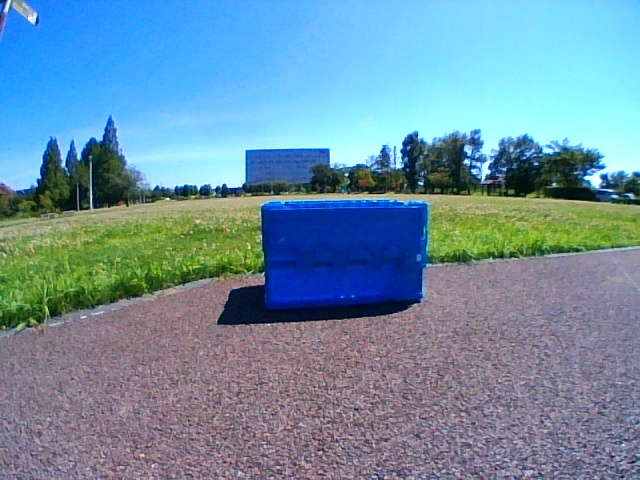blue_box: (261, 200, 429, 309)
